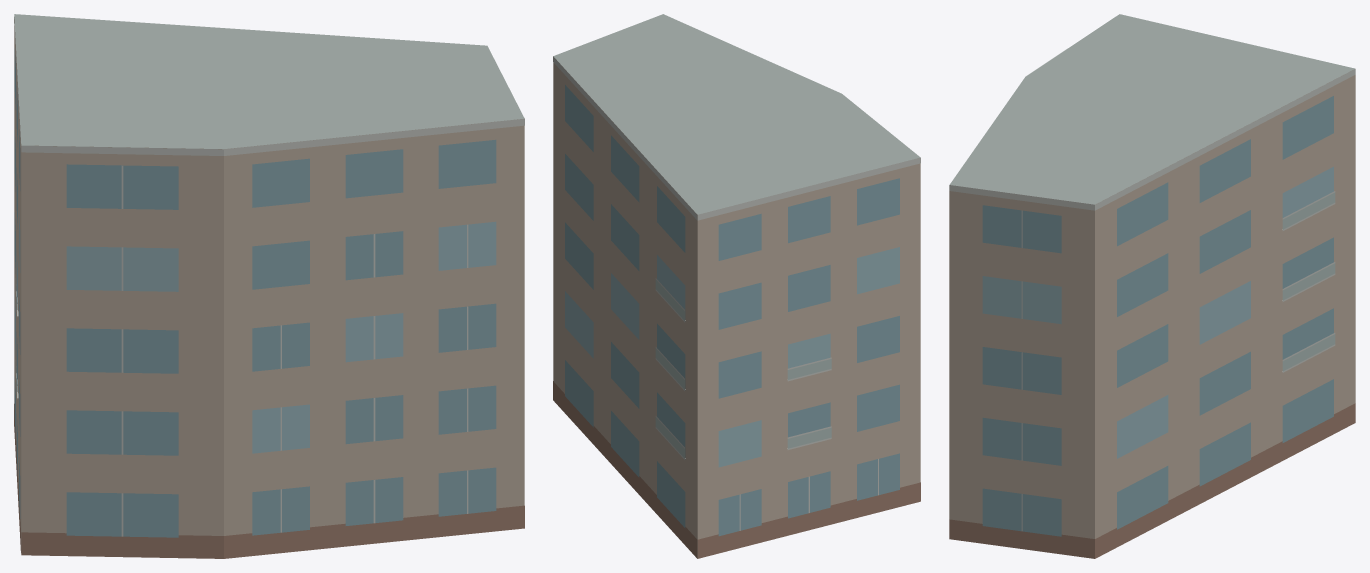
File: survey-upis-32750166.glb
The picture shows the model from 3 angles, left to right: view 1: azimuth 30°, elevation 25°; view 2: azimuth 150°, elevation 25°; view 3: azimuth 270°, elevation 25°; orthographic projection. The views are drawn at different scales.
Visible parts, largest first — view 1: survey-upis-32750166.tmp; view 2: survey-upis-32750166.tmp; view 3: survey-upis-32750166.tmp.
Part boxes in pixels (x1=…): survey-upis-32750166.tmp: x1=14, y1=14, x2=524, y2=558; survey-upis-32750166.tmp: x1=553, y1=14, x2=920, y2=558; survey-upis-32750166.tmp: x1=949, y1=14, x2=1355, y2=558.
Bounding box in the file's own units: 16.63 × 14.4 × 14.97.
